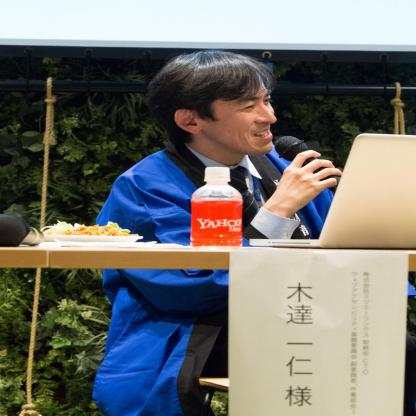board: (248, 130, 416, 248), (192, 166, 243, 247)
